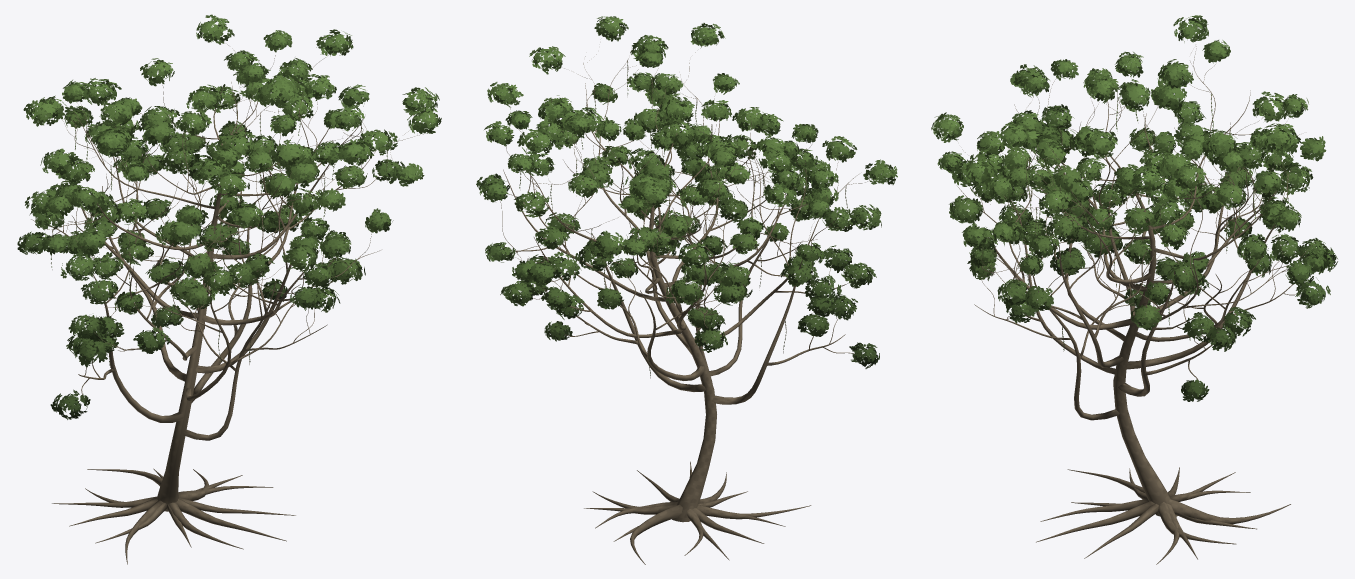
Rendered from tree.gltf.
3 renders of one model, left to right at view 1: azimuth 30°, elevation 25°; view 2: azimuth 150°, elevation 25°; view 3: azimuth 270°, elevation 25°, orthographic. The views are drawn at different scales.
Parts seen in each view (by area): view 1: Tree_LOD0; view 2: Tree_LOD0; view 3: Tree_LOD0.
Part boxes in pixels (x1,y1,x2,y2): Tree_LOD0: (17, 14, 441, 564); Tree_LOD0: (476, 16, 897, 564); Tree_LOD0: (931, 15, 1337, 564).
Size of the model in its own units: 108 by 114 by 95.08.
Materials: 2 (2 with a texture image).
